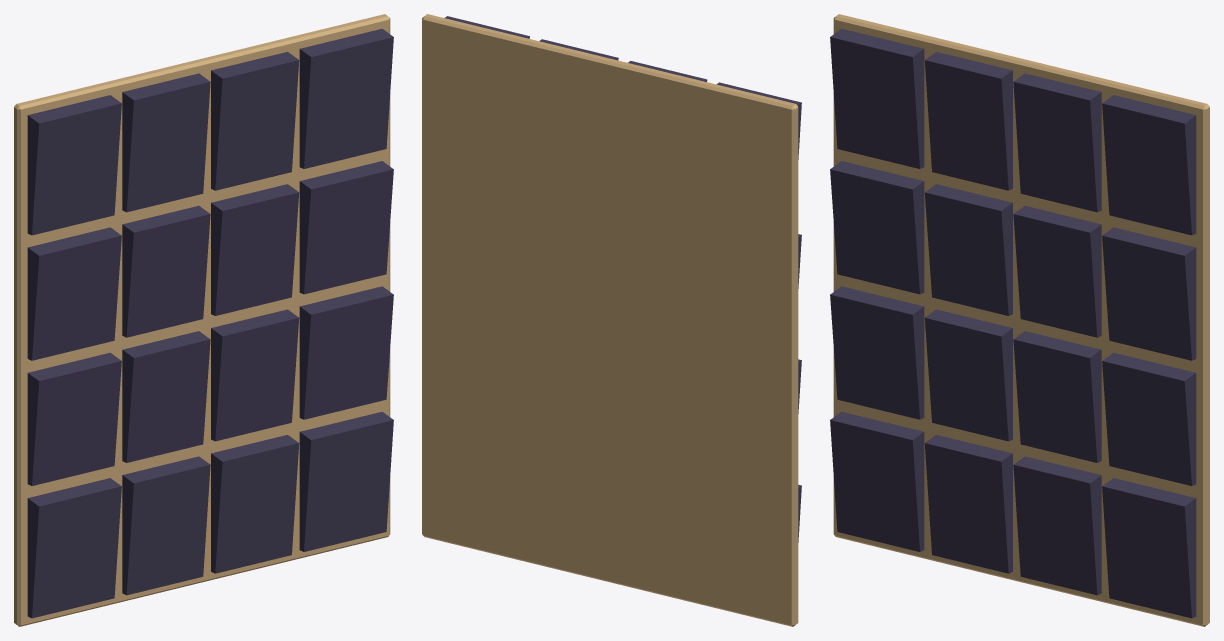
The model's file is phoneHolder.fbx.
3 renders of one model, left to right at view 1: azimuth 30°, elevation 25°; view 2: azimuth 150°, elevation 25°; view 3: azimuth 330°, elevation 25°, orthographic.
Parts seen in each view (by area): view 1: Plane; view 2: Plane; view 3: Plane.
Boxes of the visible parts, <box> form: Plane: <box>14,14,393,626</box>; Plane: <box>422,14,801,626</box>; Plane: <box>830,14,1209,626</box>.
Bounding box in the file's own units: 37.5 × 50 × 3.
